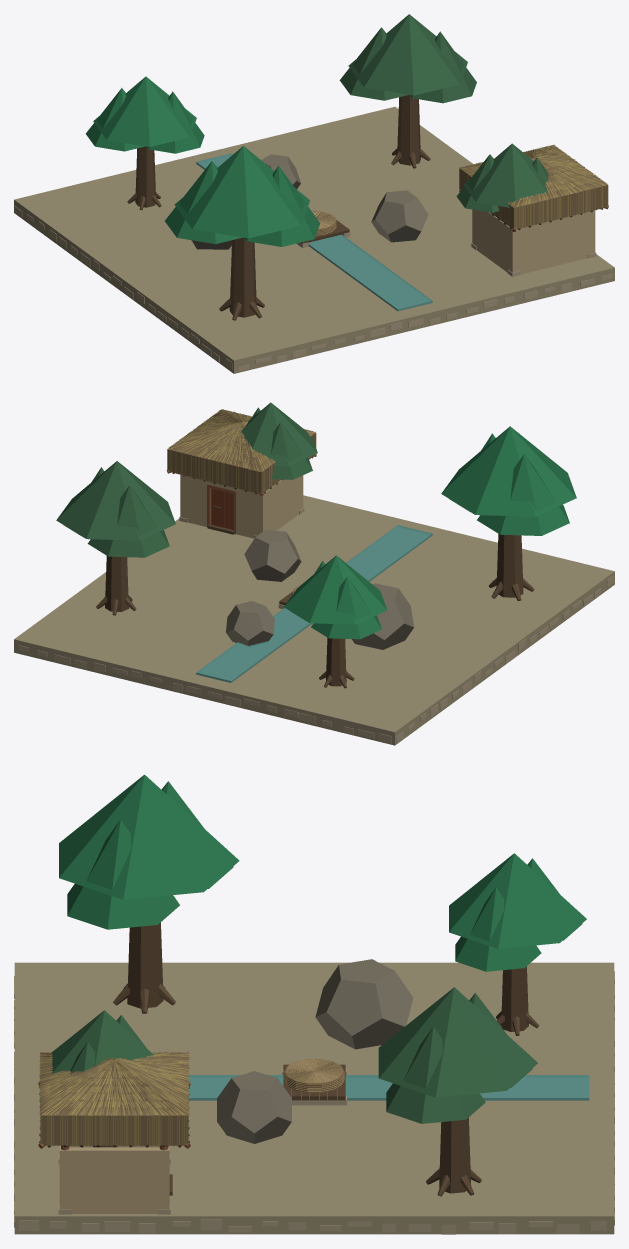
The model's file is daoshan.glb.
3 views of the same model, one above another, from view 1: azimuth 30°, elevation 25°; view 2: azimuth 150°, elevation 25°; view 3: azimuth 270°, elevation 25° (orthographic). The views are drawn at different scales.
Parts seen in each view (by area): view 1: daoshan; view 2: daoshan; view 3: daoshan.
Part boxes in pixels (x1,y1,x2,y2): daoshan: (14, 14, 614, 373); daoshan: (14, 402, 614, 745); daoshan: (14, 774, 614, 1234).
Bounding box in the file's own units: 18.5 × 7.96 × 17.73.
